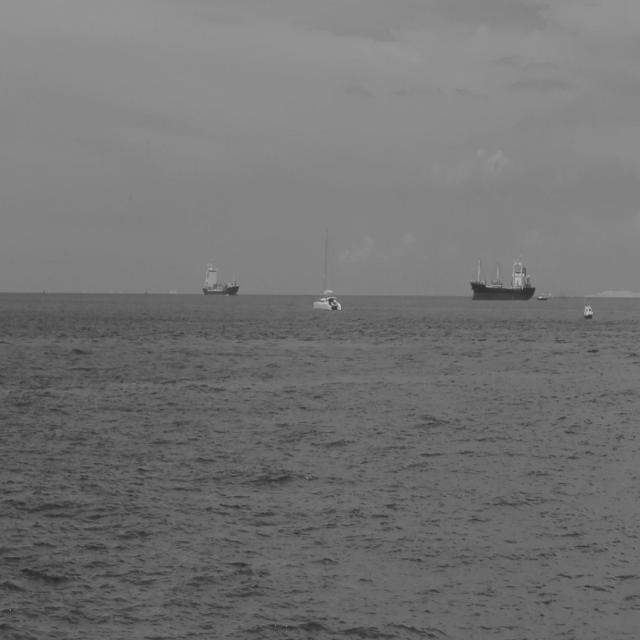ship: (468, 250, 536, 304), (312, 224, 343, 314), (201, 260, 240, 298), (582, 301, 594, 321), (536, 292, 548, 302)
